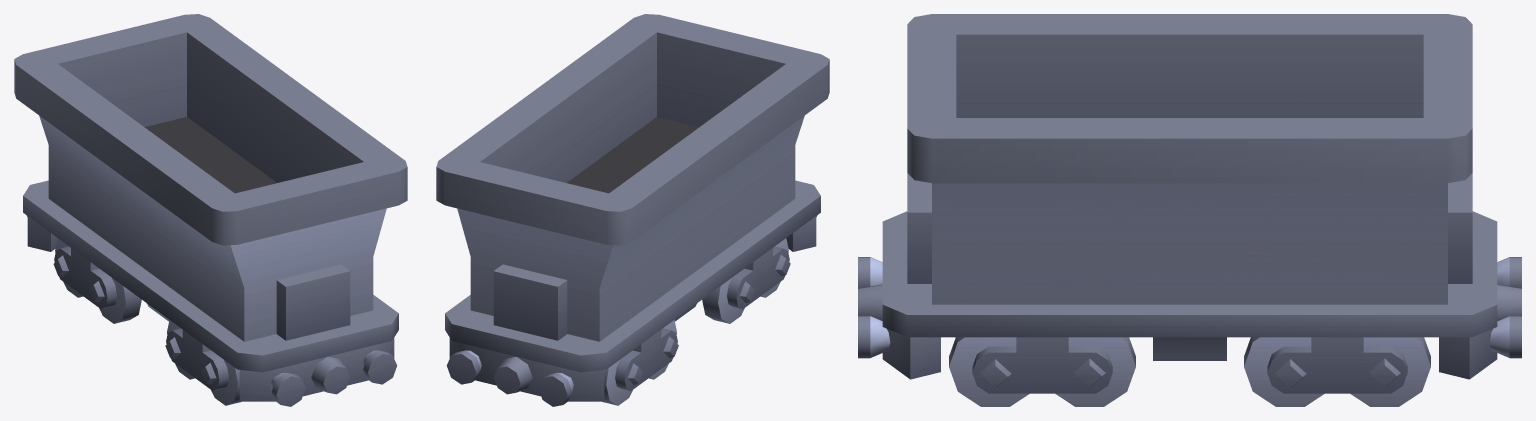
Rendered from wagon_box.glb.
The picture shows the model from 3 angles, left to right: view 1: azimuth 30°, elevation 25°; view 2: azimuth 150°, elevation 25°; view 3: azimuth 270°, elevation 25°; orthographic projection. The views are drawn at different scales.
Parts seen in each view (by area): view 1: train-carriage-box, wheels-back, wheels-front; view 2: train-carriage-box, wheels-front, wheels-back; view 3: train-carriage-box, wheels-front, wheels-back.
Boxes of the visible parts, <box> form: train-carriage-box: <box>14,14,407,406</box>; wheels-back: <box>53,238,141,323</box>; wheels-front: <box>165,320,241,405</box>; train-carriage-box: <box>436,14,829,406</box>; wheels-front: <box>702,238,790,323</box>; wheels-back: <box>602,320,678,405</box>; train-carriage-box: <box>858,14,1521,379</box>; wheels-front: <box>949,337,1135,406</box>; wheels-back: <box>1244,337,1430,406</box>.
Bounding box in the file's own units: 1.2 × 1.3 × 2.7.
Materials: 1 (1 with a texture image).
